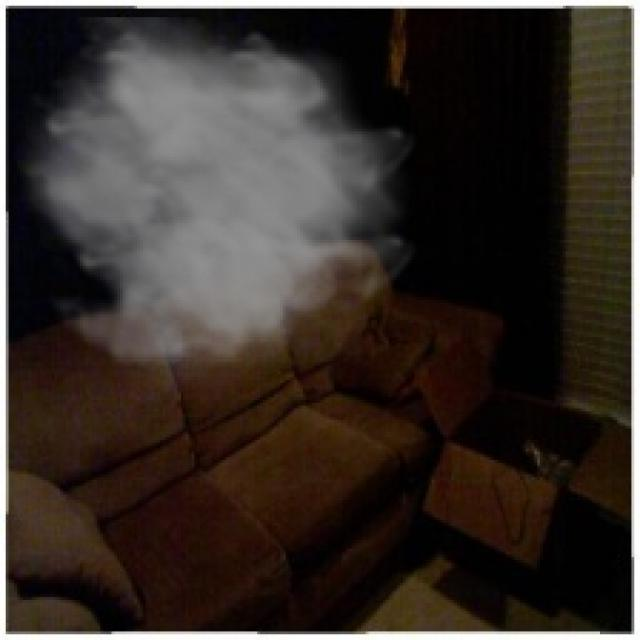Smoke: (11, 17, 420, 403)
